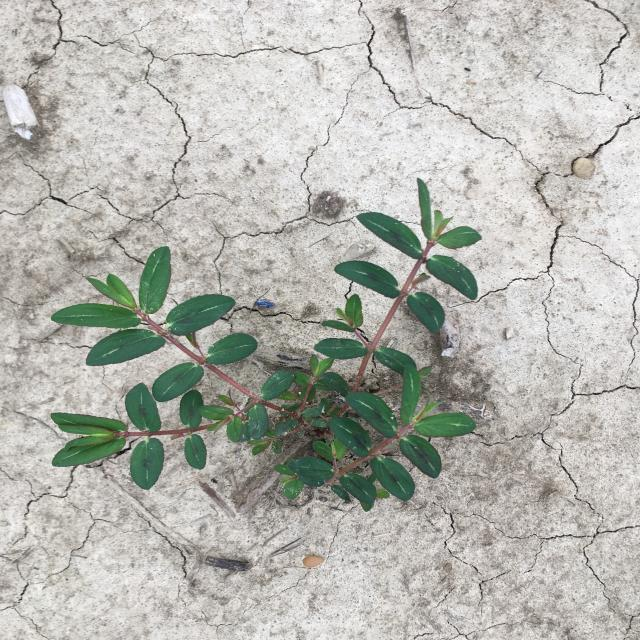SpottedSpurge: (50, 177, 482, 513)
